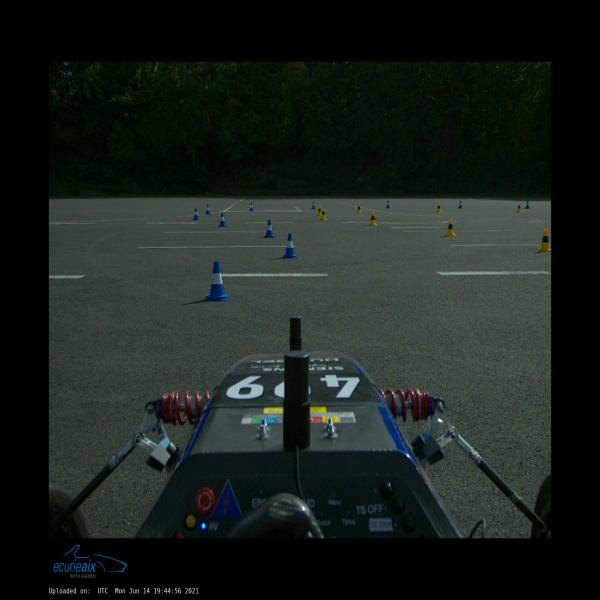blue_cone: (206, 262, 229, 301), (281, 234, 299, 258), (264, 220, 275, 238), (218, 212, 227, 226), (192, 208, 200, 220), (205, 204, 211, 215), (248, 202, 255, 211), (525, 199, 530, 209), (311, 201, 316, 209), (458, 200, 462, 209), (386, 200, 390, 208)
yellow_cone: (537, 229, 551, 252), (444, 219, 457, 237), (369, 212, 377, 226), (320, 208, 327, 220), (435, 202, 442, 212), (357, 203, 362, 214), (516, 203, 522, 212), (316, 206, 321, 216)
